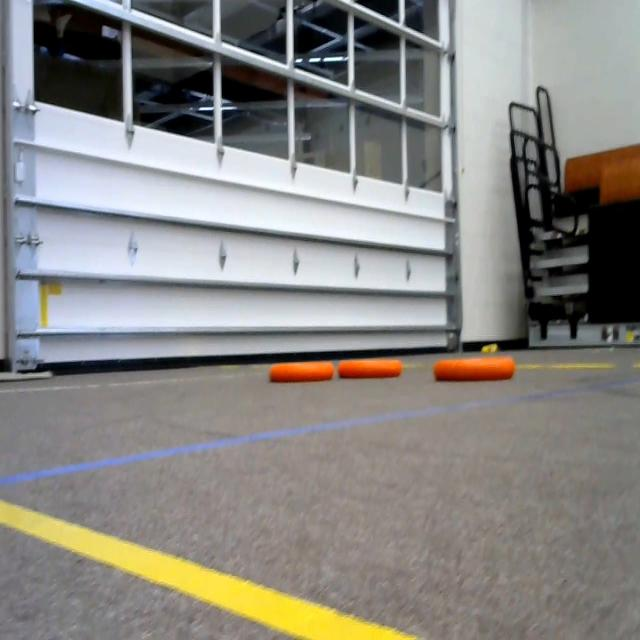note: (432, 348, 517, 388), (338, 351, 407, 389), (268, 353, 342, 387)
